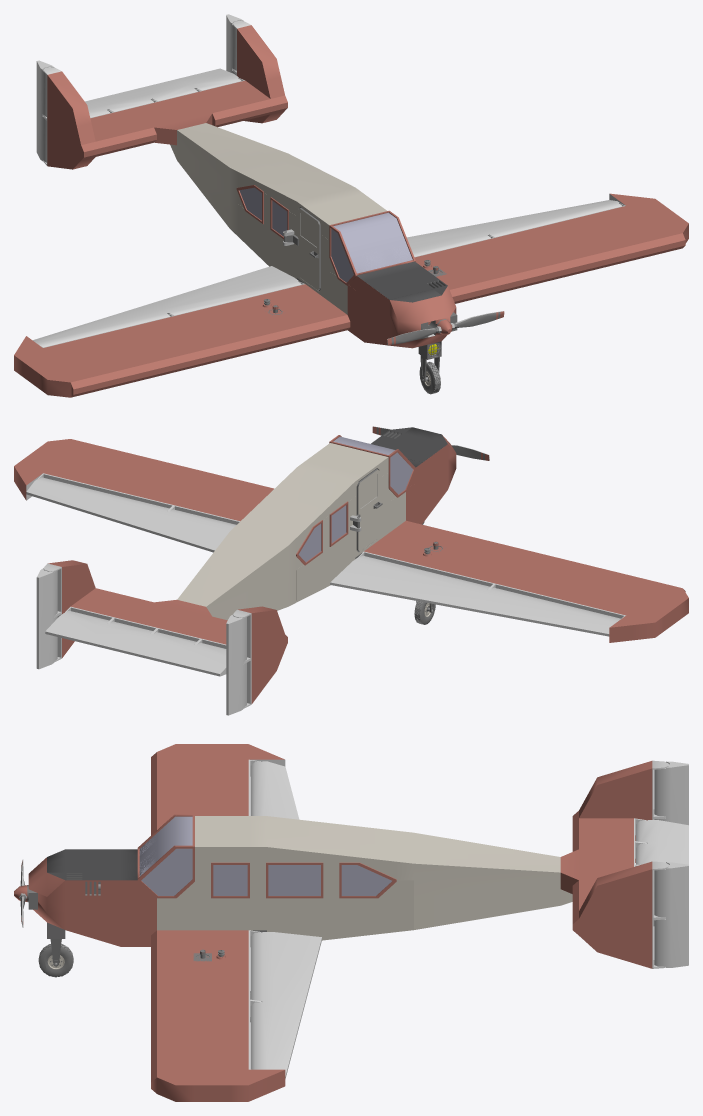
3 views of the same model, one above another, from view 1: azimuth 30°, elevation 25°; view 2: azimuth 150°, elevation 25°; view 3: azimuth 270°, elevation 25° (orthographic). The views are drawn at different scales.
Visible parts, largest first — view 1: Geode; view 2: Geode; view 3: Geode.
Boxes of the visible parts, x1=… form: Geode: x1=14, y1=14, x2=688, y2=397; Geode: x1=14, y1=426, x2=688, y2=715; Geode: x1=14, y1=744, x2=688, y2=1101.
Size of the model in its own units: 11 by 2.36 by 9.2.
